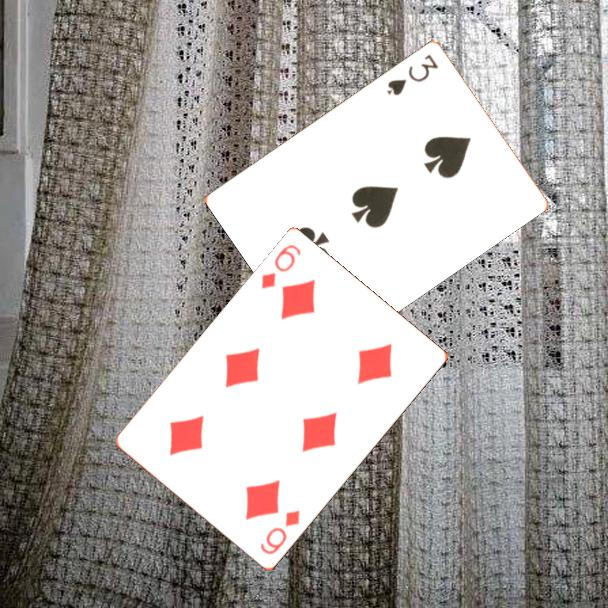d06: (257, 241, 304, 293), (257, 507, 303, 558)
s03: (384, 50, 442, 98)
